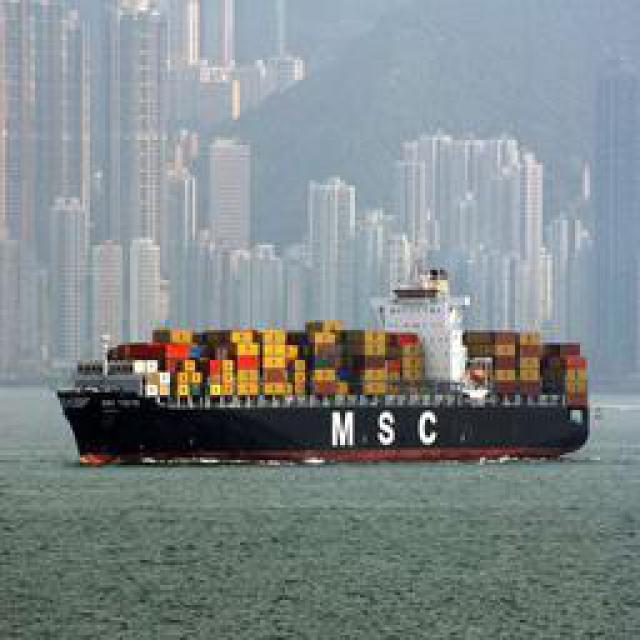Ship: (38, 385, 586, 465)
